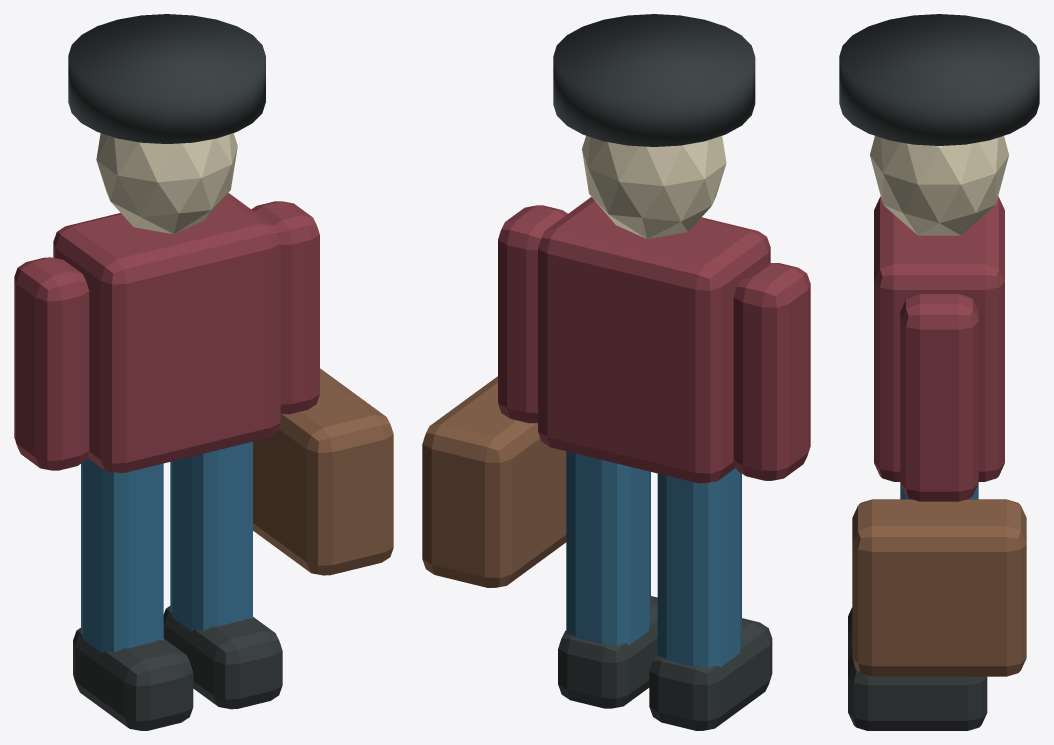
Rendered from passenger.glb.
3 views of the same model, side by side, from view 1: azimuth 30°, elevation 25°; view 2: azimuth 150°, elevation 25°; view 3: azimuth 270°, elevation 25° (orthographic). The views are drawn at different scales.
Parts seen in each view (by area): view 1: passenger_maroon, passenger_black, passenger_navy, passenger_timber, passenger_plaster; view 2: passenger_maroon, passenger_black, passenger_navy, passenger_timber, passenger_plaster; view 3: passenger_maroon, passenger_black, passenger_timber, passenger_plaster.
Boxes of the visible parts, left/top/right/bottom form: passenger_maroon: left=14, top=193, right=319, bottom=473; passenger_black: left=68, top=14, right=282, bottom=730; passenger_navy: left=81, top=441, right=252, bottom=653; passenger_timber: left=253, top=368, right=393, bottom=575; passenger_plaster: left=96, top=133, right=237, bottom=234; passenger_maroon: left=498, top=197, right=810, bottom=483; passenger_black: left=553, top=14, right=772, bottom=730; passenger_navy: left=566, top=451, right=741, bottom=668; passenger_timber: left=422, top=376, right=566, bottom=587; passenger_plaster: left=582, top=135, right=726, bottom=239; passenger_maroon: left=874, top=196, right=1004, bottom=501; passenger_black: left=839, top=14, right=1039, bottom=730; passenger_timber: left=852, top=499, right=1026, bottom=676; passenger_plaster: left=870, top=136, right=1008, bottom=235.
Bounding box in the file's own units: 0.895 × 1.63 × 0.46.
